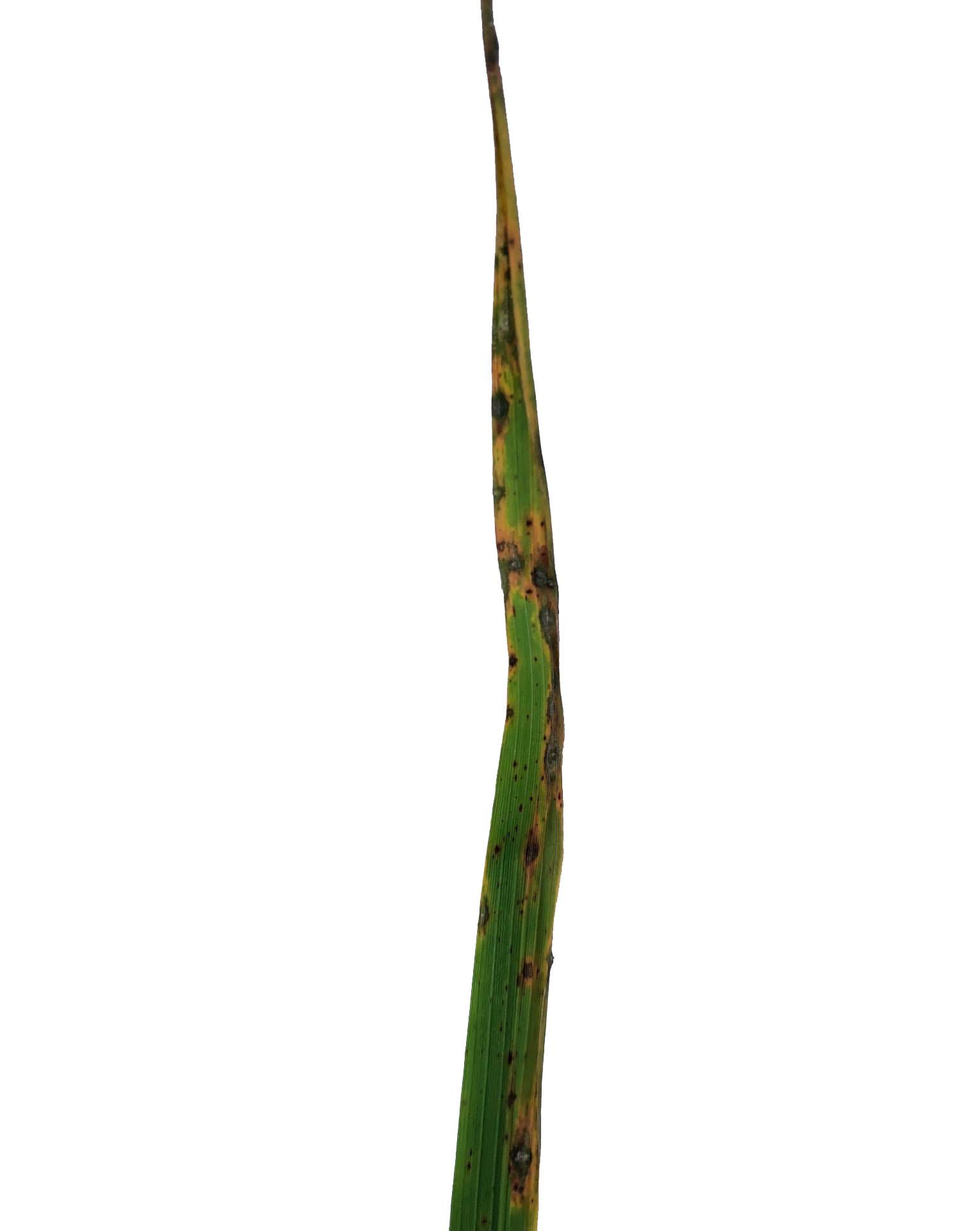Rice blast: (478, 13, 542, 333), (535, 539, 571, 878), (500, 503, 535, 657), (510, 1090, 545, 1228), (494, 391, 532, 449)
